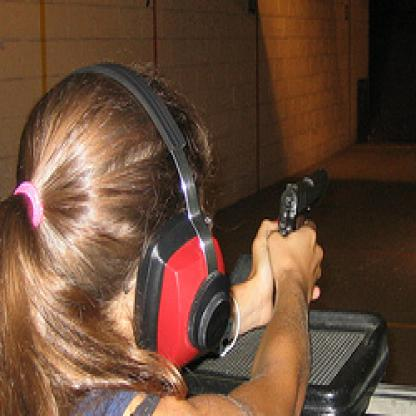gun: (268, 157, 339, 266)
